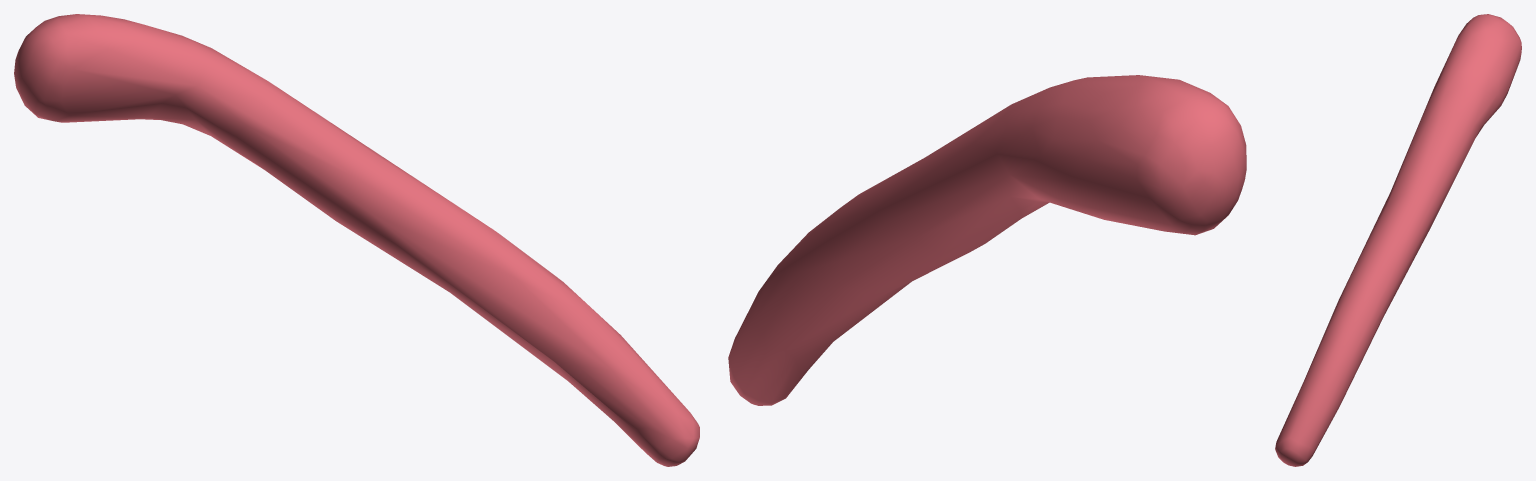
Rendered from fma50305_fj6002.glb.
3 renders of one model, left to right at view 1: azimuth 30°, elevation 25°; view 2: azimuth 150°, elevation 25°; view 3: azimuth 270°, elevation 25°, orthographic. The views are drawn at different scales.
Parts seen in each view (by area): view 1: FMA50305_FJ6002; view 2: FMA50305_FJ6002; view 3: FMA50305_FJ6002.
Part boxes in pixels (box(x1,y1,x2,y2)): FMA50305_FJ6002: box(14, 14, 699, 466); FMA50305_FJ6002: box(728, 75, 1246, 405); FMA50305_FJ6002: box(1275, 14, 1521, 466).
Size of the model in its own units: 0.0481 by 0.0392 by 0.0293.
